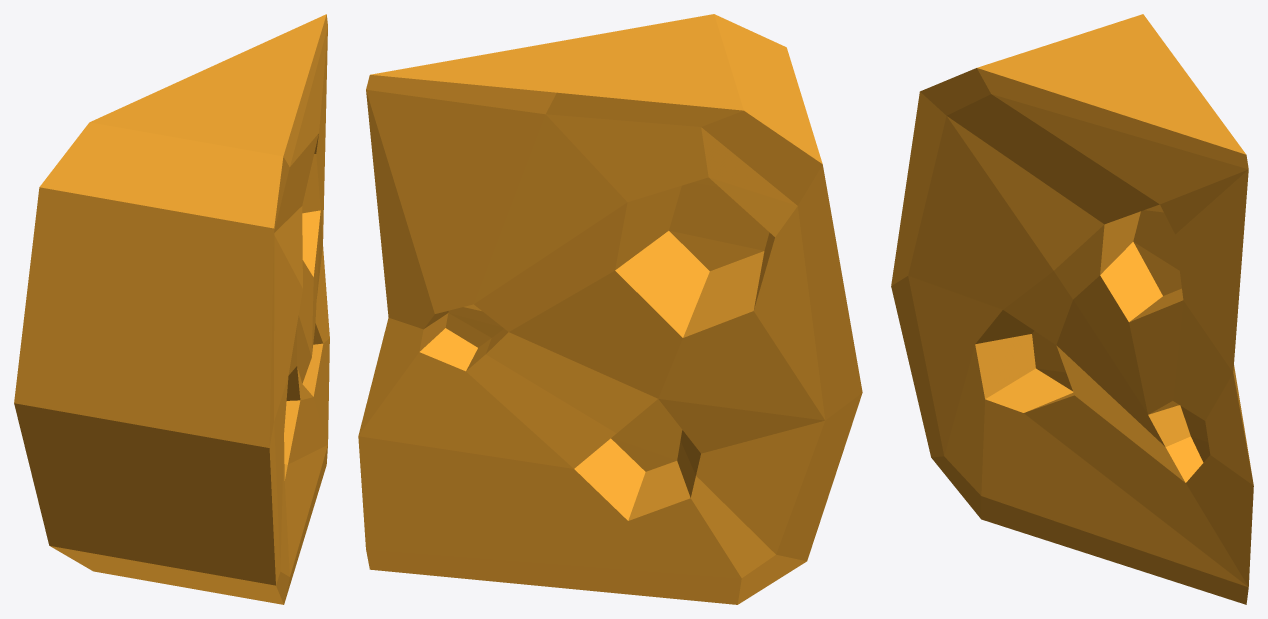
Rendered from SM_Parmesan_Cut.fbx.
3 renders of one model, left to right at view 1: azimuth 30°, elevation 25°; view 2: azimuth 150°, elevation 25°; view 3: azimuth 270°, elevation 25°, orthographic. The views are drawn at different scales.
Parts seen in each view (by area): view 1: parmesan-cut; view 2: parmesan-cut; view 3: parmesan-cut.
Boxes of the visible parts, left/top/right/bottom form: parmesan-cut: left=14, top=14, right=329, bottom=604; parmesan-cut: left=358, top=14, right=862, bottom=604; parmesan-cut: left=891, top=14, right=1253, bottom=604.
Bounding box in the file's own units: 0.2278 × 0.2532 × 0.1849.
